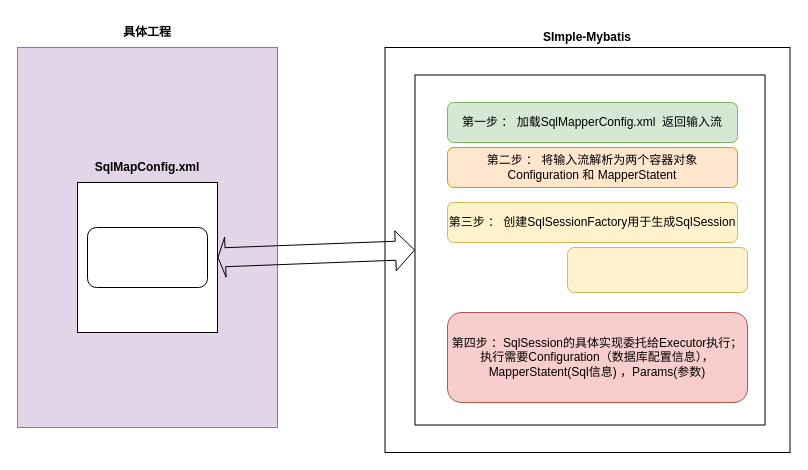
Some shapes in this 808 by 470 pixel diagram are drawn without their labels. The centre of each missing label's shape, as x and y in pixels:
"Mapper.xml" goes at (x=147, y=257).
"SqlSession对象提供基本的增删改查" goes at (x=657, y=269).
